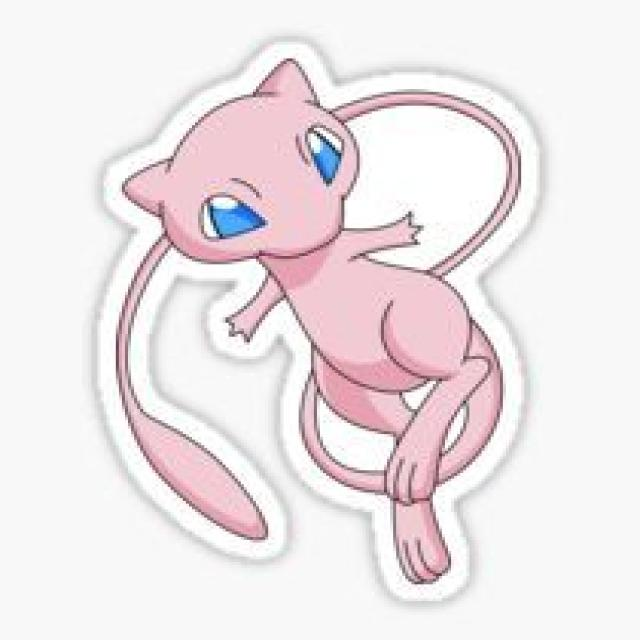Mew: (162, 49, 492, 492)
